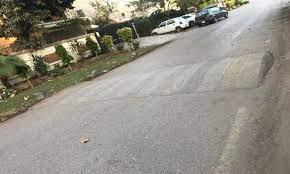speedbreaker: (93, 52, 269, 88)
